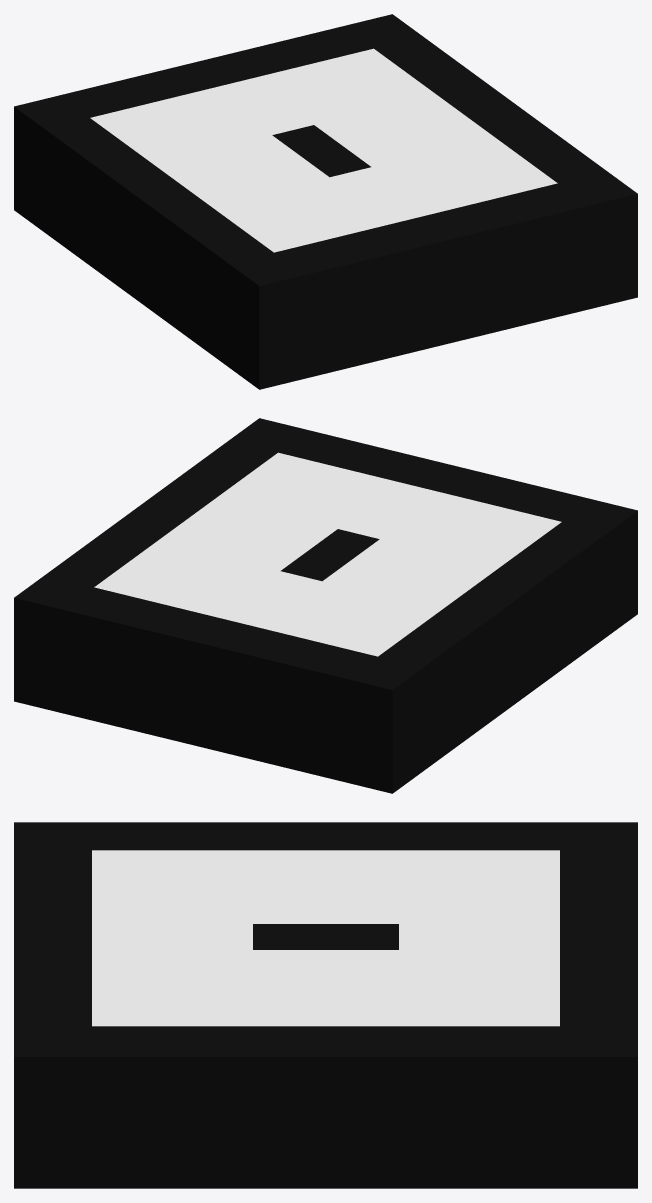
Rendered from Font_Letter_O_01.fbx.
3 views of the same model, one above another, from view 1: azimuth 30°, elevation 25°; view 2: azimuth 150°, elevation 25°; view 3: azimuth 270°, elevation 25° (orthographic). The views are drawn at different scales.
Parts seen in each view (by area): view 1: Font_Letter_O_01; view 2: Font_Letter_O_01; view 3: Font_Letter_O_01.
Boxes of the visible parts, left/top/right/bottom form: Font_Letter_O_01: left=14, top=14, right=637, bottom=389; Font_Letter_O_01: left=14, top=418, right=637, bottom=793; Font_Letter_O_01: left=14, top=822, right=637, bottom=1188.
Size of the model in its own units: 74.41 by 19.48 by 83.57.
